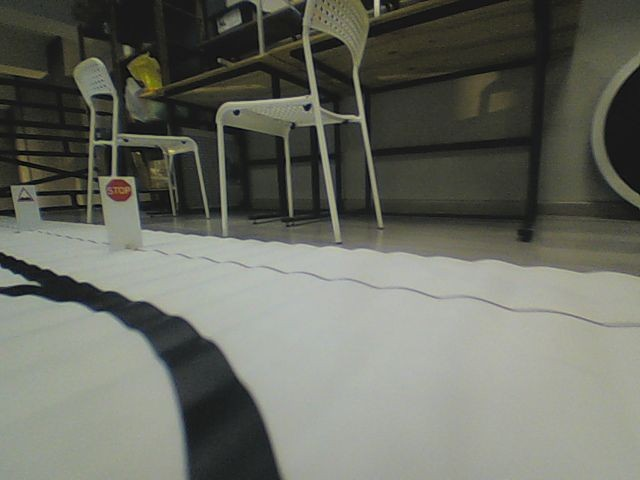Nerov: (16, 185, 33, 203)
Stop: (105, 178, 133, 203)
